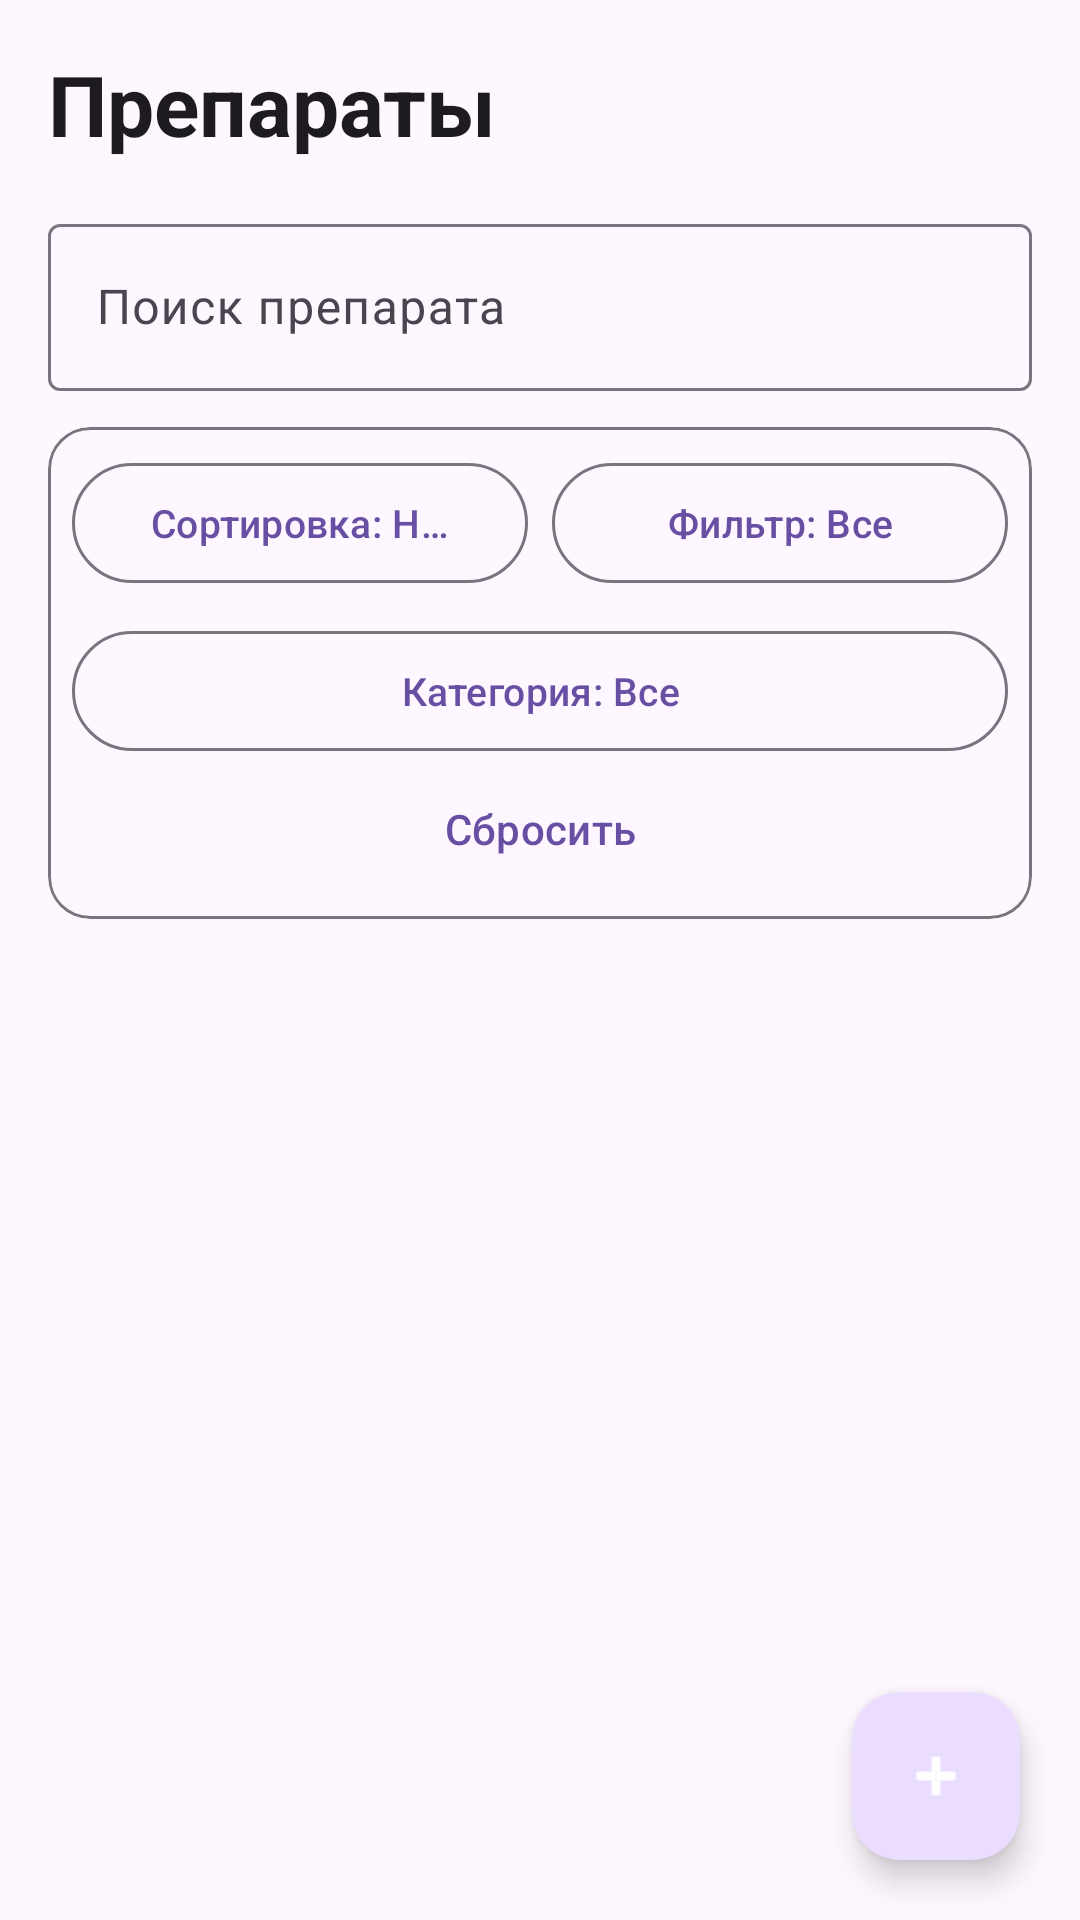

Locate icon controls on the screen. Image size 1080 x 1920, boxes as (x1, y1, x2, y2).
Добавить препарат: (852, 1692, 1020, 1860)
